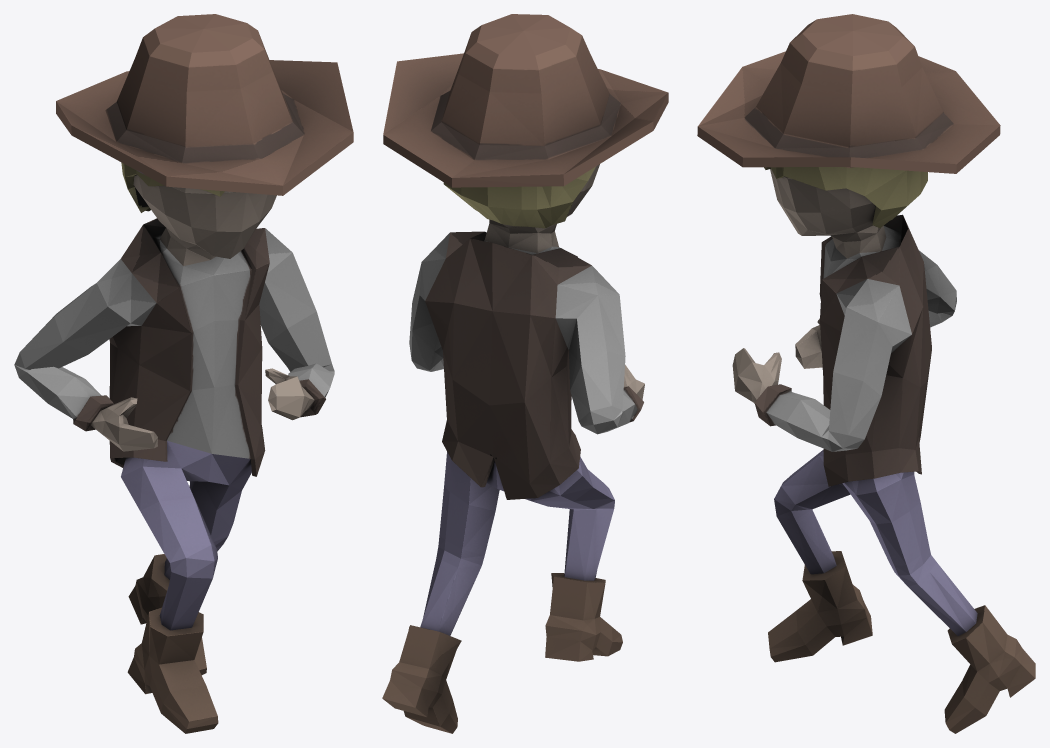
Rendered from char_7.obj.
3 views of the same model, side by side, from view 1: azimuth 30°, elevation 25°; view 2: azimuth 150°, elevation 25°; view 3: azimuth 270°, elevation 25° (orthographic). The views are drawn at different scales.
Parts seen in each view (by area): view 1: Cube; view 2: Cube; view 3: Cube.
Part boxes in pixels (box(x1,y1,x2,y2)): Cube: box(14, 14, 353, 733); Cube: box(382, 14, 668, 733); Cube: box(697, 14, 1035, 733).
Size of the model in its own units: 3.6 by 8.74 by 3.94.
Materials: 1 (1 with a texture image).
